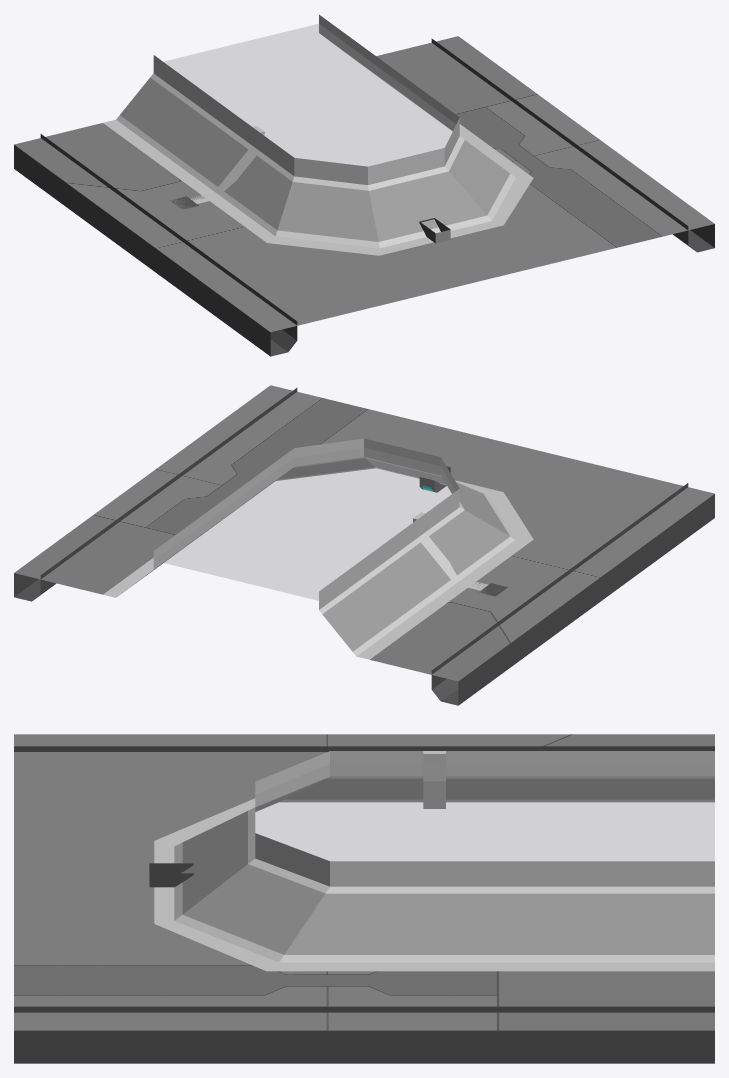
File: SM_Ceiling_5x5_End_1.fbx
3 renders of one model, top to bottom at view 1: azimuth 30°, elevation 25°; view 2: azimuth 150°, elevation 25°; view 3: azimuth 270°, elevation 25°, orthographic. The views are drawn at different scales.
Visible parts, largest first — view 1: SM_Ceiling_5x5_End_A; view 2: SM_Ceiling_5x5_End_A; view 3: SM_Ceiling_5x5_End_A.
Boxes of the visible parts, box(x1,y1,x2,y2) form: SM_Ceiling_5x5_End_A: box(14, 14, 714, 356); SM_Ceiling_5x5_End_A: box(14, 385, 714, 705); SM_Ceiling_5x5_End_A: box(14, 734, 714, 1063).
Size of the model in its own units: 500 by 86.12 by 500.
